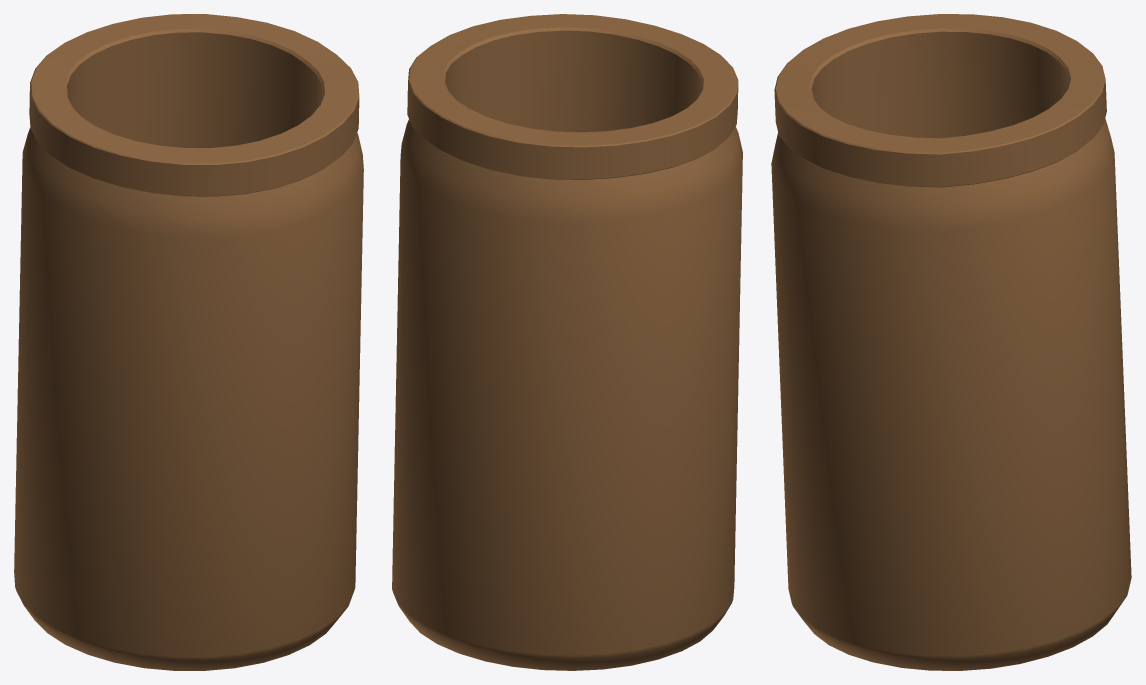
File: Pot5.fbx
3 views of the same model, side by side, from view 1: azimuth 30°, elevation 25°; view 2: azimuth 150°, elevation 25°; view 3: azimuth 270°, elevation 25° (orthographic).
Visible parts, largest first — view 1: Pot5.001; view 2: Pot5.001; view 3: Pot5.001.
Part boxes in pixels (box(x1,y1,x2,y2)): Pot5.001: box(14, 14, 363, 670); Pot5.001: box(392, 14, 742, 670); Pot5.001: box(771, 14, 1131, 670).
Size of the model in its own units: 46.62 by 79.95 by 48.9.
1 material, 1 textured.
